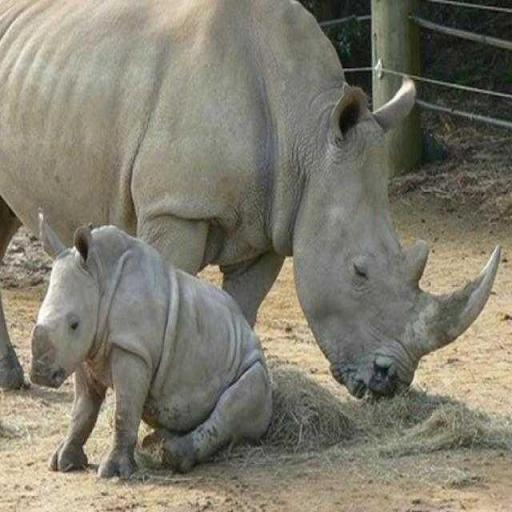Rhino: (0, 0, 501, 416), (28, 214, 274, 480)
